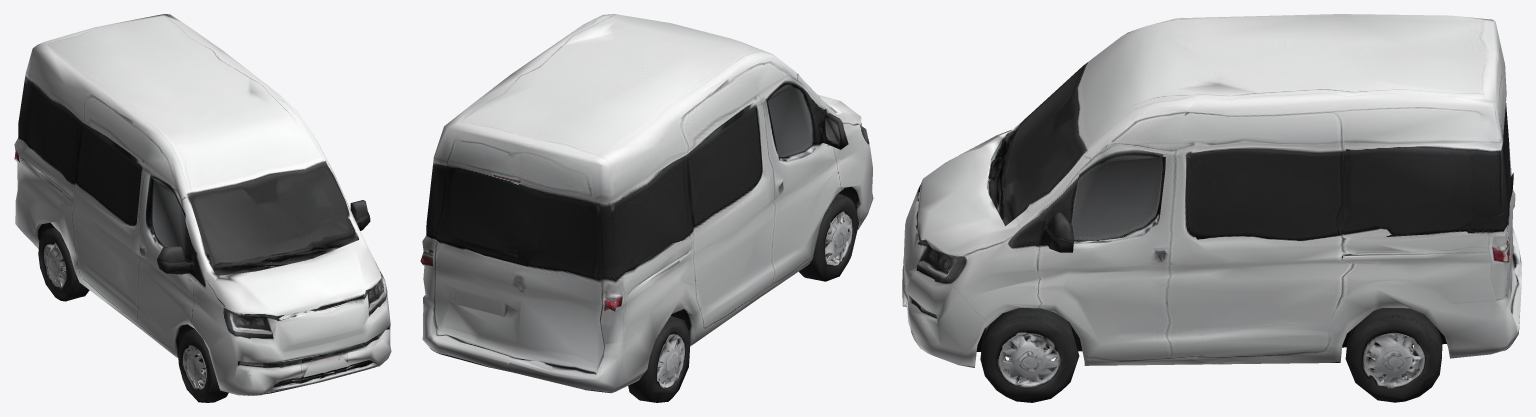
File: van.glb
3 renders of one model, left to right at view 1: azimuth 30°, elevation 25°; view 2: azimuth 150°, elevation 25°; view 3: azimuth 270°, elevation 25°, orthographic. The views are drawn at different scales.
Visible parts, largest first — view 1: tripo_node_e18dc0b7-a68e-48e5-9593-41a5d0b6e5ae; view 2: tripo_node_e18dc0b7-a68e-48e5-9593-41a5d0b6e5ae; view 3: tripo_node_e18dc0b7-a68e-48e5-9593-41a5d0b6e5ae.
Part boxes in pixels (bbox=[...]): tripo_node_e18dc0b7-a68e-48e5-9593-41a5d0b6e5ae: bbox=[14, 14, 391, 402]; tripo_node_e18dc0b7-a68e-48e5-9593-41a5d0b6e5ae: bbox=[420, 14, 873, 402]; tripo_node_e18dc0b7-a68e-48e5-9593-41a5d0b6e5ae: bbox=[902, 14, 1521, 402].
Size of the model in its own units: 0.5134 by 0.5313 by 0.9991.
1 material, 1 textured.
